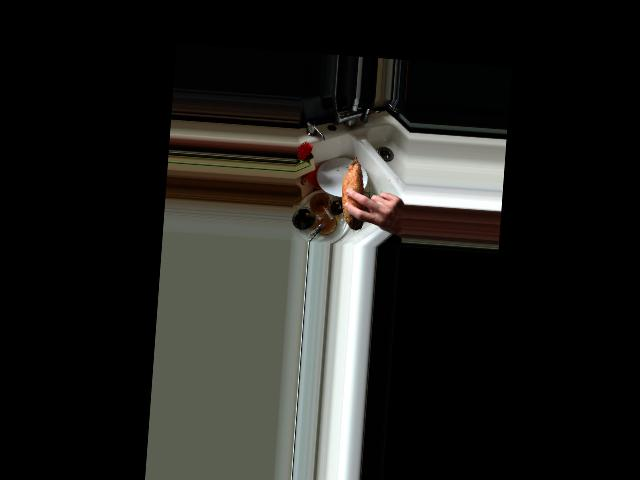sweet_potato: (339, 153, 372, 233)
